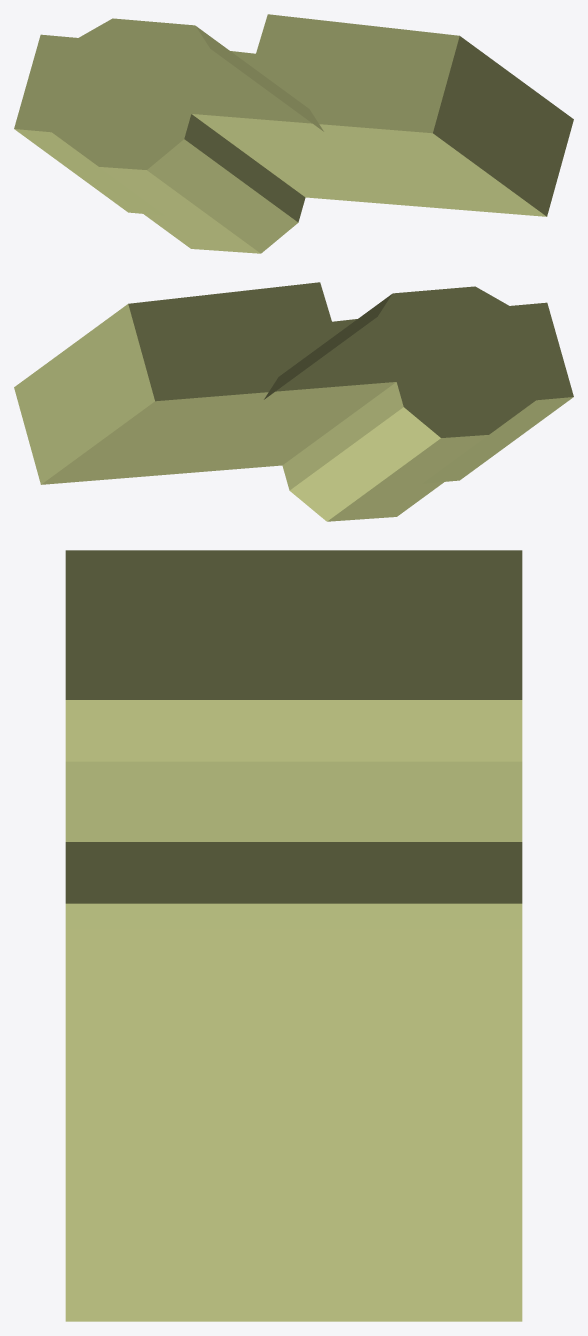
3 views of the same model, one above another, from view 1: azimuth 30°, elevation 25°; view 2: azimuth 150°, elevation 25°; view 3: azimuth 270°, elevation 25° (orthographic). The views are drawn at different scales.
Visible parts, largest first — view 1: 0_0_1_1_2_1_3_2_0; view 2: 0_0_1_1_2_1_3_2_0; view 3: 0_0_1_1_2_1_3_2_0.
Part boxes in pixels (bbox=[...]): 0_0_1_1_2_1_3_2_0: bbox=[14, 14, 573, 253]; 0_0_1_1_2_1_3_2_0: bbox=[14, 282, 573, 521]; 0_0_1_1_2_1_3_2_0: bbox=[65, 550, 522, 1321].
Size of the model in its own units: 20.28 by 8.45 by 9.
